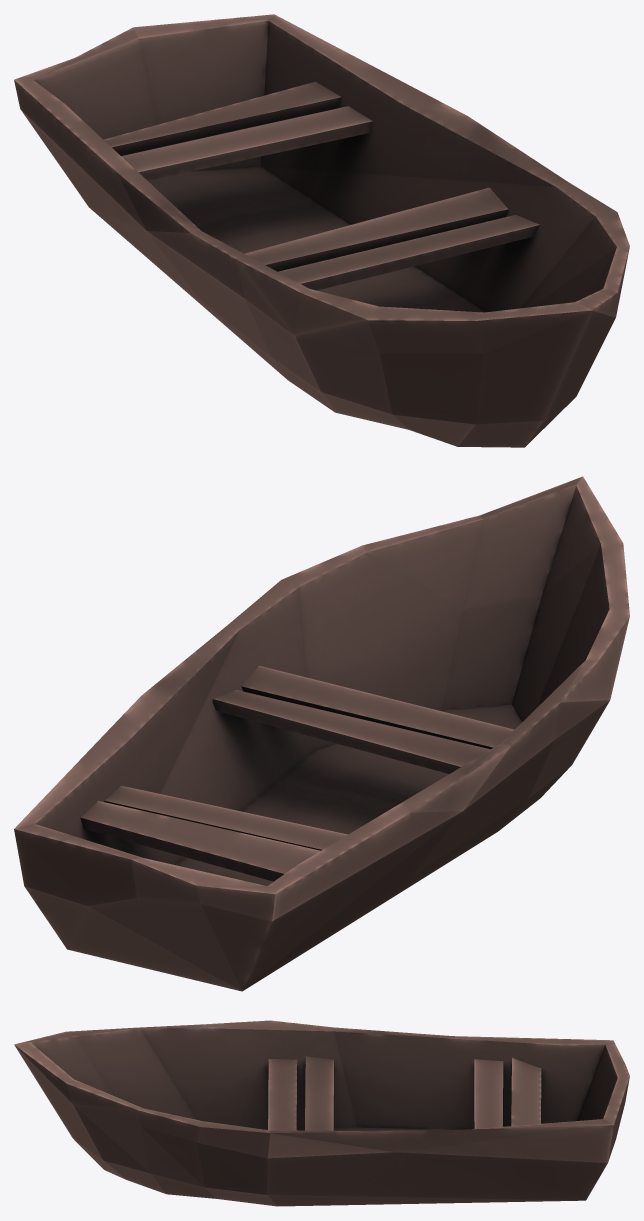
File: Boat_1.fbx
The picture shows the model from 3 angles, top to bottom: view 1: azimuth 30°, elevation 25°; view 2: azimuth 150°, elevation 25°; view 3: azimuth 270°, elevation 25°; orthographic projection. The views are drawn at different scales.
Visible parts, largest first — view 1: Boat_1; view 2: Boat_1; view 3: Boat_1.
Part boxes in pixels (bbox=[...]): Boat_1: bbox=[14, 14, 629, 447]; Boat_1: bbox=[14, 476, 629, 991]; Boat_1: bbox=[14, 1020, 629, 1206].
Size of the model in its own units: 48.49 by 25.91 by 115.
